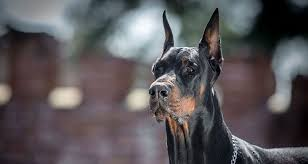dog: (142, 5, 282, 164)
